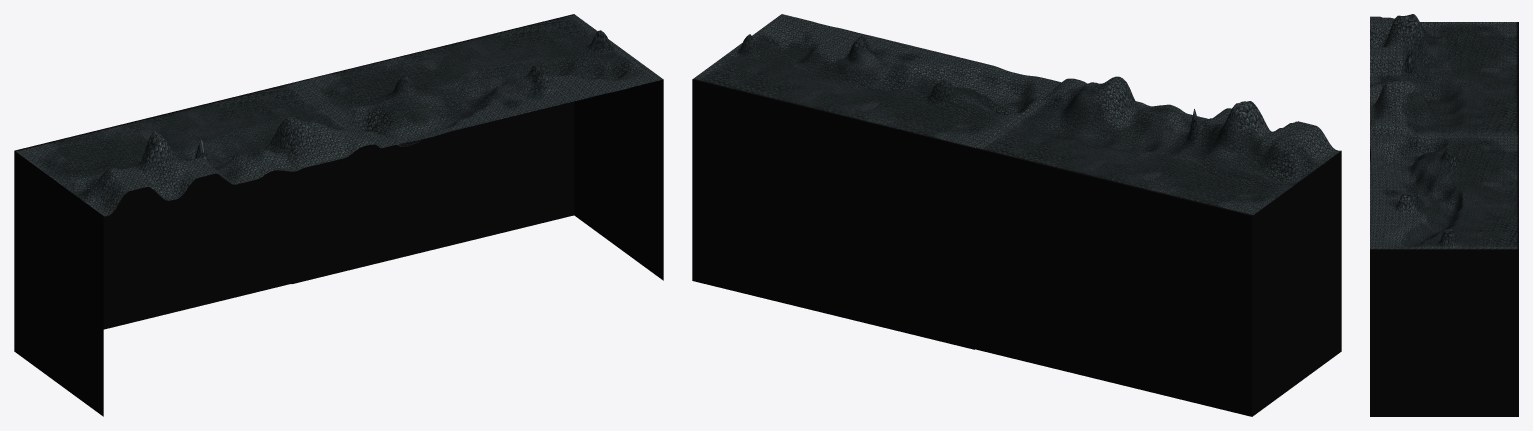
3 views of the same model, side by side, from view 1: azimuth 30°, elevation 25°; view 2: azimuth 150°, elevation 25°; view 3: azimuth 270°, elevation 25° (orthographic). The views are drawn at different scales.
Parts seen in each view (by area): view 1: ground_base4; view 2: ground_base4; view 3: ground_base4.
Boxes of the visible parts, <box> form: ground_base4: <box>14,14,663,416</box>; ground_base4: <box>692,14,1341,416</box>; ground_base4: <box>1370,14,1518,416</box>.
Bounding box in the file's own units: 5826 × 2474 × 1613.
